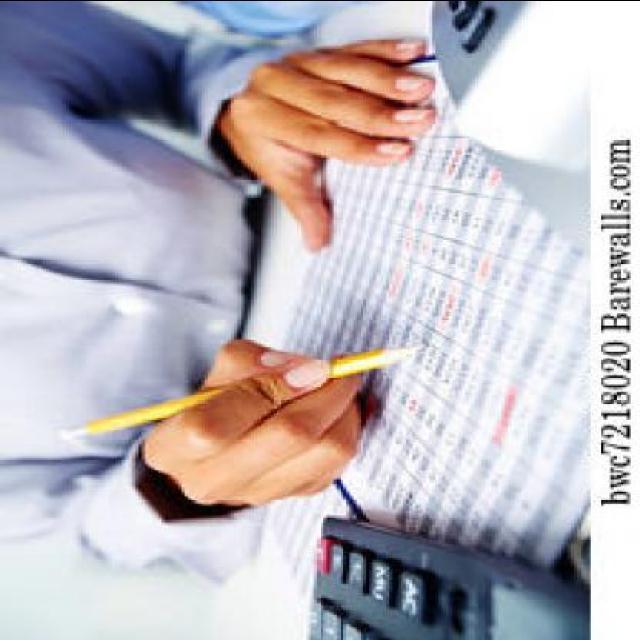pencil: (356, 334, 428, 370)
